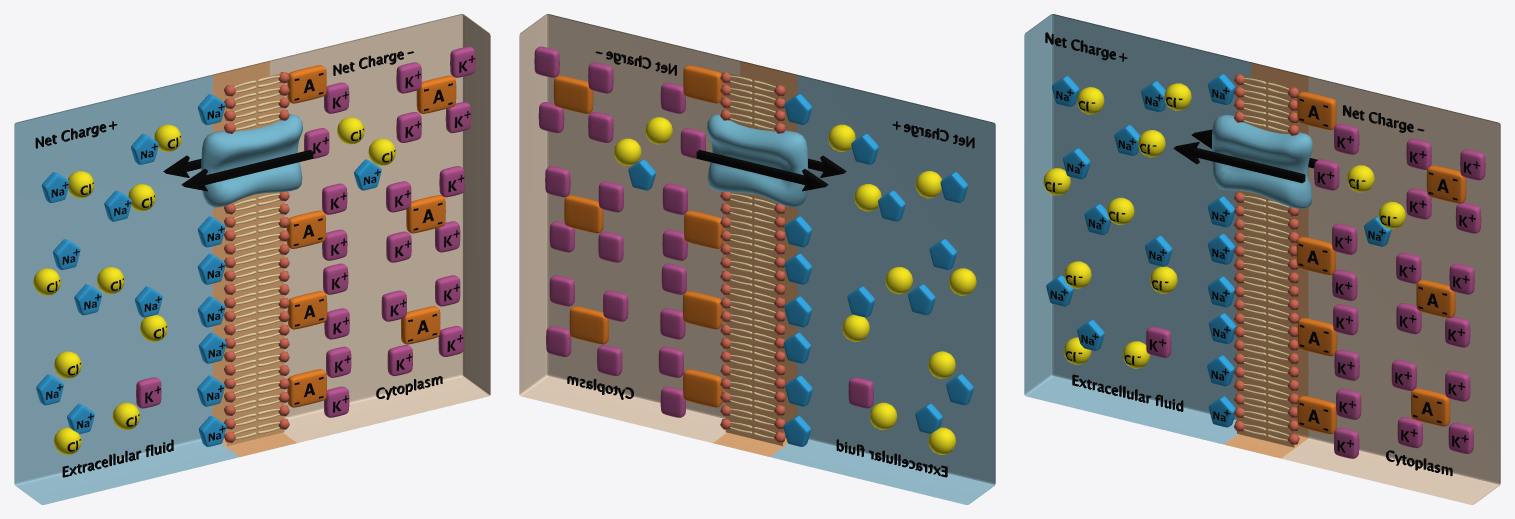
File: electrochemical_gradient.glb
3 views of the same model, side by side, from view 1: azimuth 30°, elevation 25°; view 2: azimuth 150°, elevation 25°; view 3: azimuth 330°, elevation 25° (orthographic).
Visible parts, largest first — view 1: pCube102, polySurface76, polySurface72, polySurface73; view 2: pCube102, polySurface76, polySurface72, polySurface75; view 3: pCube102, polySurface76, polySurface72, polySurface73.
Part boxes in pixels (box(x1,y1,x2,y2)): pCube102: box(14, 14, 490, 504); polySurface76: box(33, 46, 475, 454); polySurface72: box(35, 51, 442, 477); polySurface73: box(181, 150, 313, 191); pCube102: box(519, 14, 995, 504); polySurface76: box(534, 46, 976, 454); polySurface72: box(567, 51, 974, 477); polySurface75: box(696, 150, 828, 191); pCube102: box(1024, 14, 1500, 504); polySurface76: box(1043, 74, 1485, 458); polySurface72: box(1045, 32, 1452, 476); polySurface73: box(1173, 142, 1305, 183).
Size of the model in its own units: 0.2168 by 0.1674 by 0.0238.
3 materials, 2 textured.
